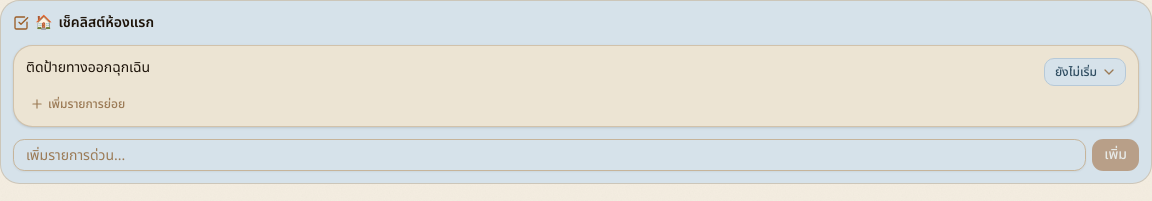
Test: RoomChecklistBox optimistic status changes › drops a row out of the box the moment it's marked done, before the server replies
Click the dropdown named "สถานะของ ติดป้ายทางออกฉุกเฉิน".
click(1085, 72)  # box [1044,58,1126,86]
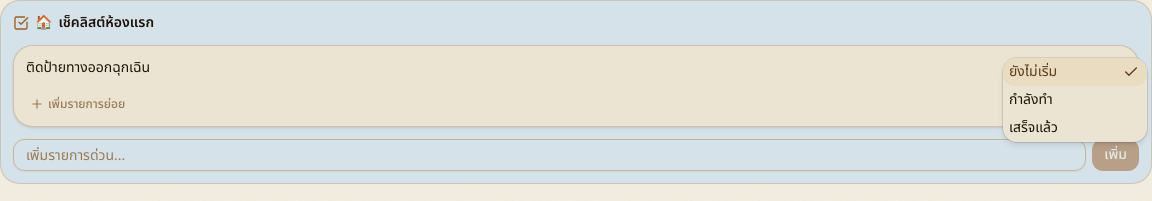
Click the option "เสร็จแล้ว".
click(1034, 128)  # box [1009,117,1058,138]
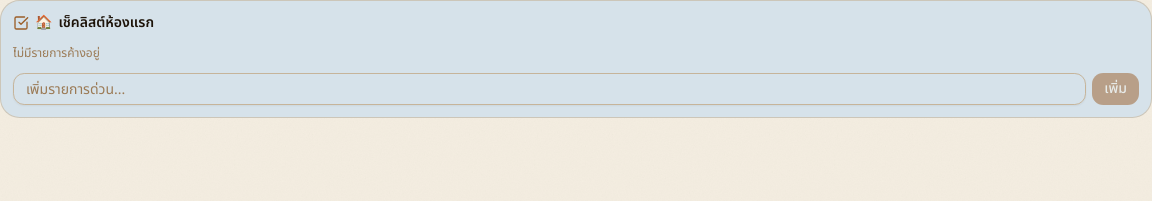
Check: the text "ติดป้ายทางออกฉุกเฉิน" is gone
Check: the text "ไม่มีรายการค้างอยู่" is shown, box [13,44,100,62]
